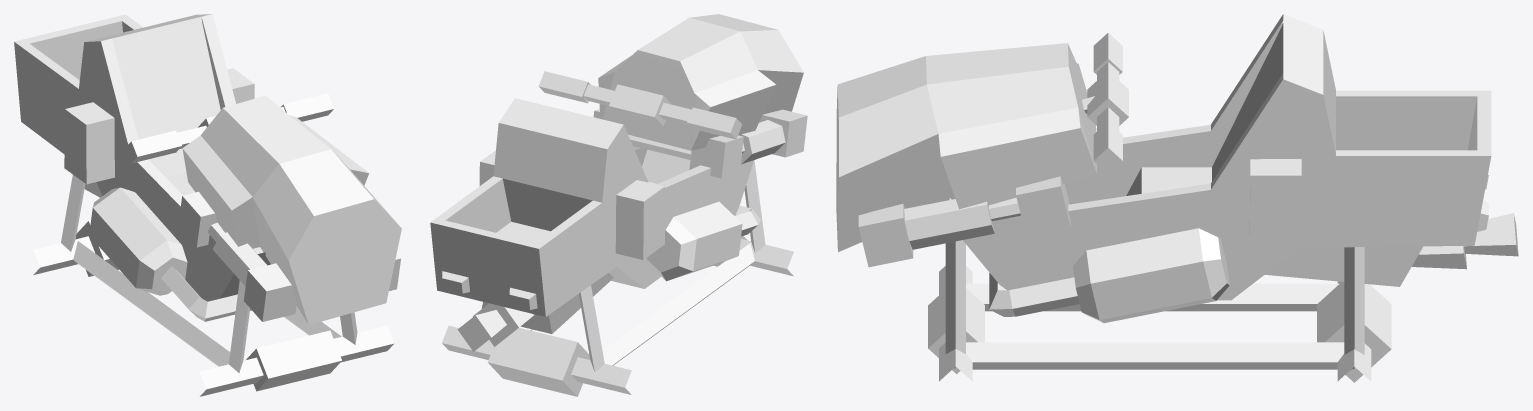
File: Truck 4 Body.glb
3 renders of one model, left to right at view 1: azimuth 30°, elevation 25°; view 2: azimuth 150°, elevation 25°; view 3: azimuth 270°, elevation 25°, orthographic. The views are drawn at different scales.
Parts seen in each view (by area): view 1: body, interior; view 2: body, interior; view 3: body, interior.
Part boxes in pixels (bbox=[...]): body: bbox=[14, 14, 401, 324]; interior: bbox=[33, 16, 400, 396]; body: bbox=[430, 14, 803, 316]; interior: bbox=[442, 71, 807, 396]; body: bbox=[836, 14, 1491, 323]; interior: bbox=[858, 23, 1518, 382].
Bounding box in the file's own units: 1.88 × 2.39 × 4.72.
Materials: 1 (1 with a texture image).
